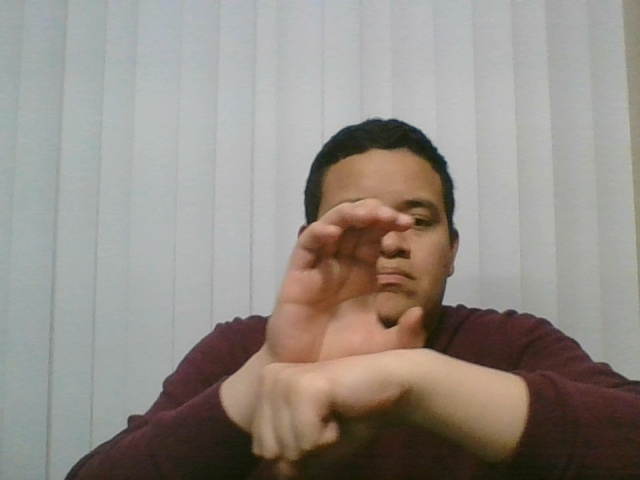Church: (209, 192, 460, 475)
